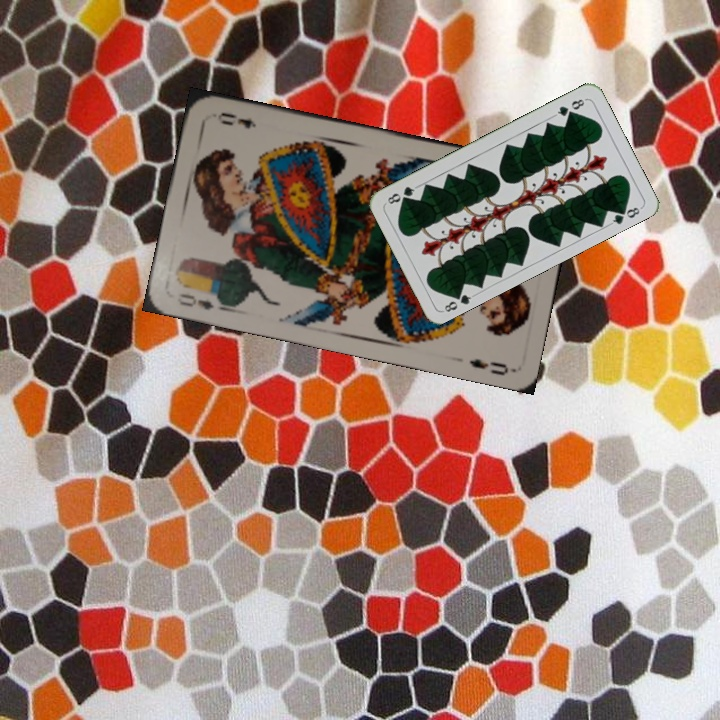EO: (173, 289, 229, 313)
G8: (439, 287, 477, 315), (551, 95, 588, 119)
